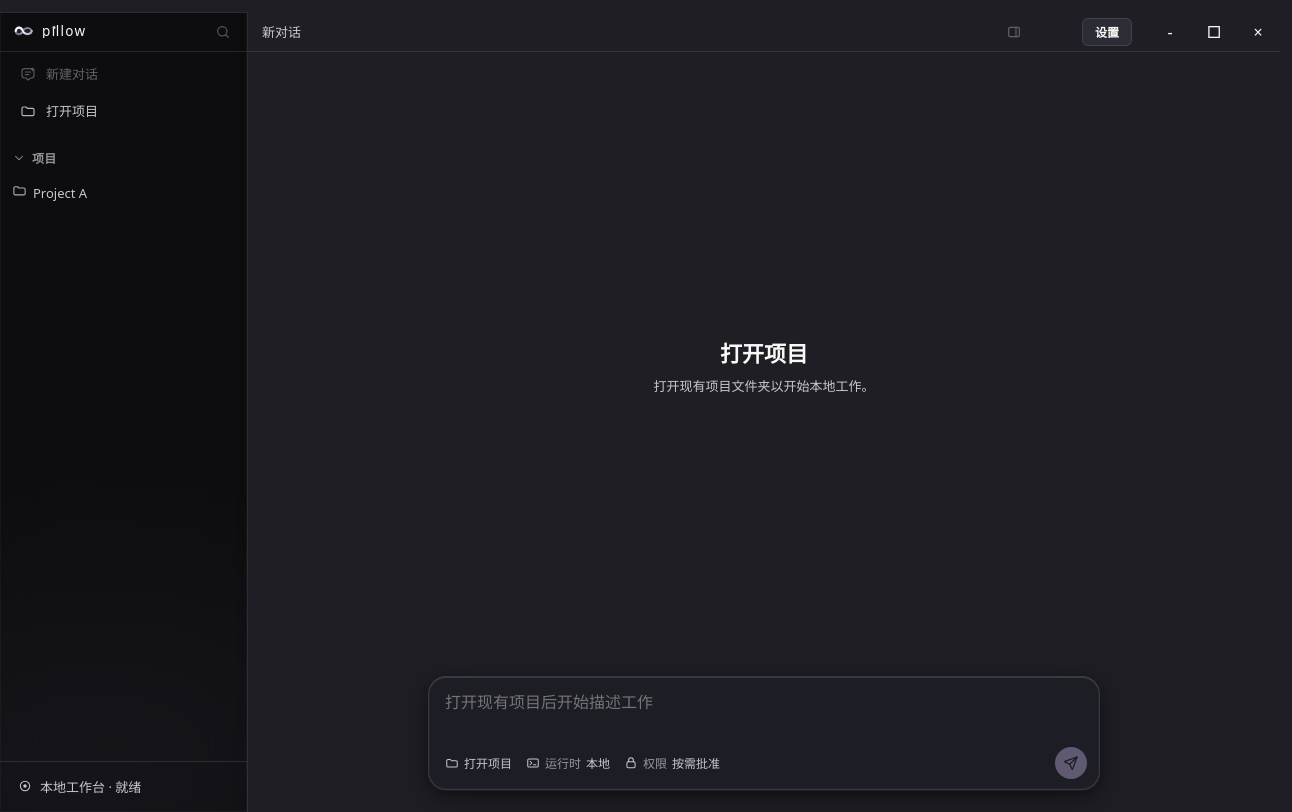
Test: conversation list race (accepted send vs late project-effect list) › keeps composer-cancel mounted when a late older list arrives mid-run
The width and height of the screenshot is (1292, 812).
Click the button "Project A" at (124, 192), box [4,176,243,209]
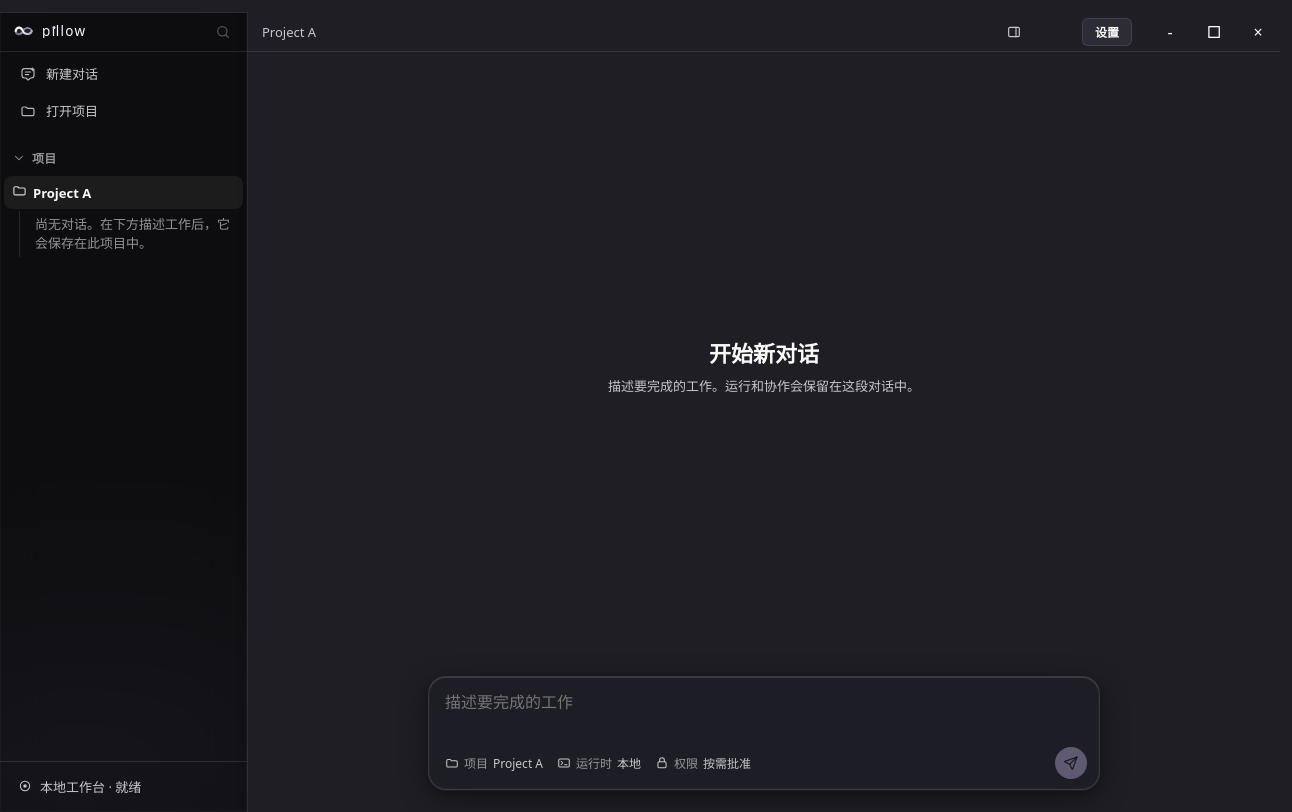
Type "long tree" into the text box named "工作请求" at (764, 713), box [441,687,1087,739]
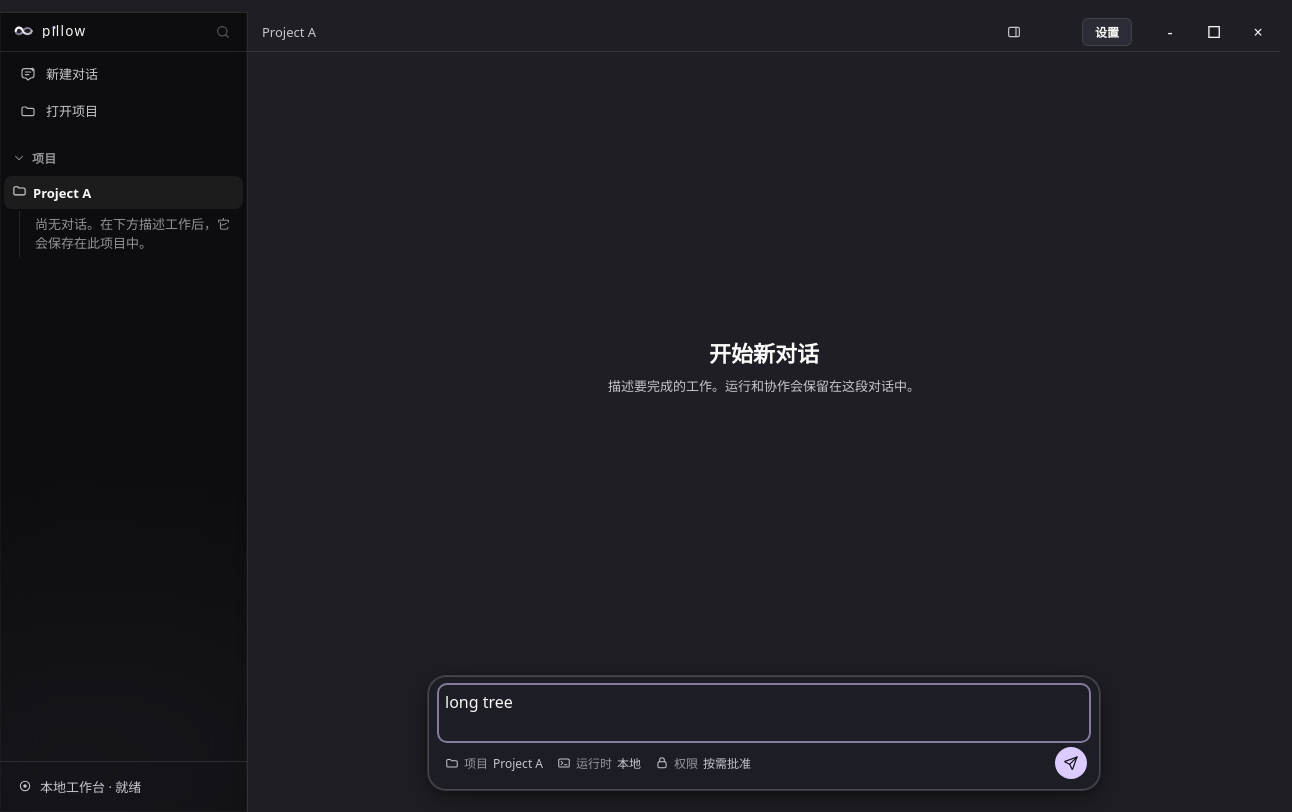
Click the button with test id "composer-send" at (1071, 763), box [1055,747,1087,779]
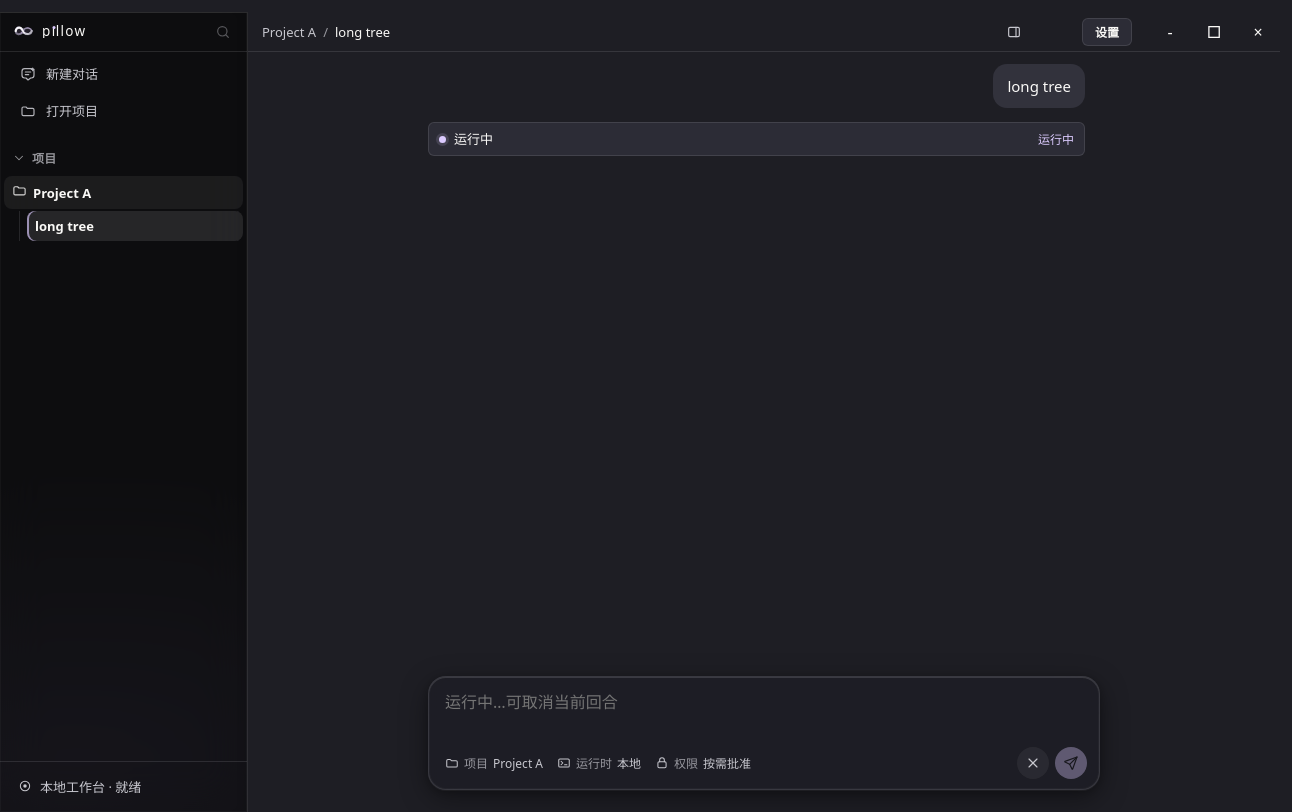
Now the button with test id "composer-cancel" is shown, box [1017,747,1049,779]
